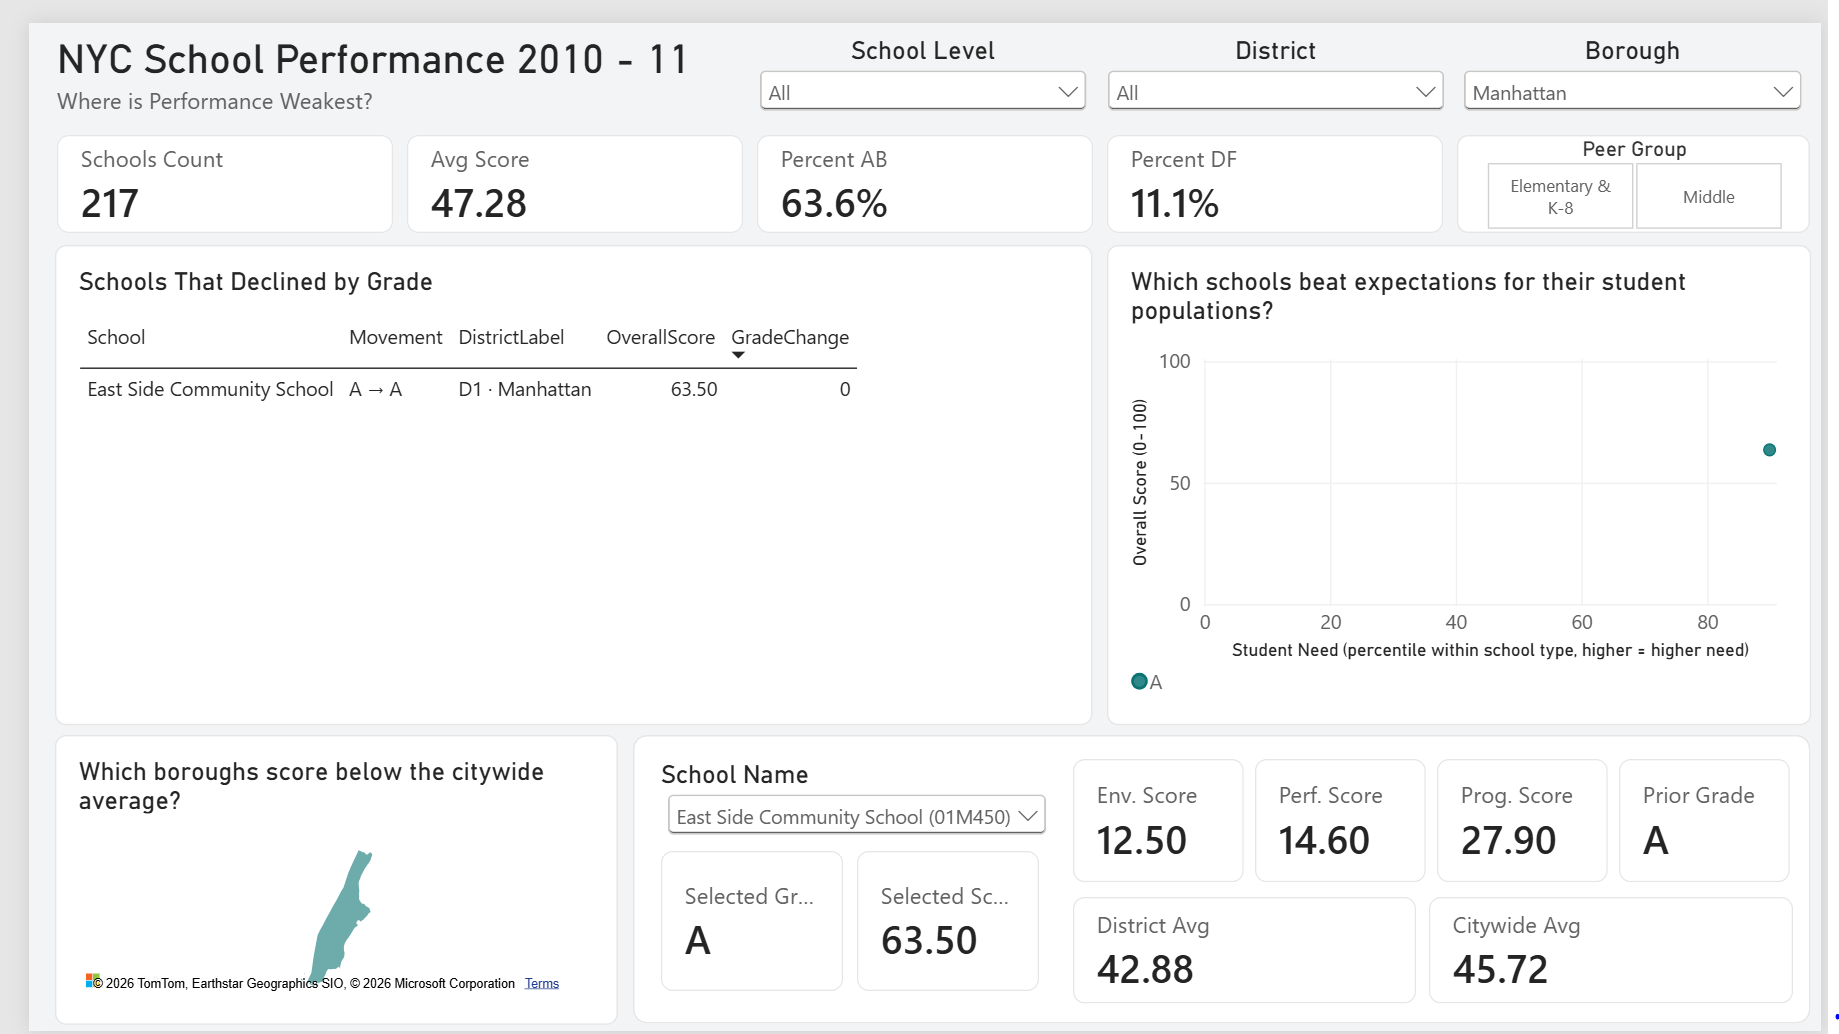

This screenshot's page, from the dashboard's own definition file:
{"tool":"powerbi","page":{"name":"Schools","canvas":[1280,720],"ordinal":0},"visuals":[{"type":"textbox","title":"NYC School Performance 2010 - 11","box":[20,8,477,64],"z":0},{"type":"slicer","title":"School Level","fields":{"Values":["Schools.SchoolLevel"]},"box":[517,8,243,60],"z":1000},{"type":"slicer","title":"District","fields":{"Values":["Schools.DistrictLabel"]},"box":[765,8,250,60],"z":2000},{"type":"cardVisual","fields":{"Data":["Schools.Schools Count"]},"box":[20,80,240,70],"z":3000},{"type":"cardVisual","fields":{"Data":["Schools.Avg Score"]},"box":[270,80,240,70],"z":4000},{"type":"cardVisual","fields":{"Data":["Schools.Percent AB"]},"box":[520,80,240,70],"z":5000},{"type":"cardVisual","title":"Percent DF","fields":{"Data":["Schools.Percent DF"]},"box":[770,80,240,70],"z":6000},{"type":"slicer","title":"Peer Group","fields":{"Values":["Schools.PeerGroup"]},"box":[1020,80,252,70],"z":7000},{"type":"shape","box":[431,509,841,206],"z":9000},{"type":"slicer","title":"School Name","fields":{"Values":["Schools.SchoolLabel"]},"box":[452,525,280,60],"z":11000},{"type":"cardVisual","fields":{"Data":["Schools.Selected Grade"]},"box":[452,592,130,100],"z":12000},{"type":"cardVisual","fields":{"Data":["Schools.Selected Score"]},"box":[592,592,130,100],"z":13000},{"type":"cardVisual","fields":{"Data":["Schools.Sel Env","Schools.Sel Perf","Schools.Sel Prog","Schools.Prior Grade"]},"box":[745,525,515,88],"z":14000},{"type":"cardVisual","fields":{"Data":["Schools.District Avg"]},"box":[745,624,245,76],"z":15000},{"type":"cardVisual","fields":{"Data":["Schools.Citywide Avg"]},"box":[1000,624,260,76],"z":16000},{"type":"slicer","title":"Borough","fields":{"Values":["Schools.Borough"]},"box":[1020,8,251,60],"z":17000},{"type":"tableEx","title":"Schools That Declined by Grade","fields":{"Values":["Schools.School","Schools.Movement","Schools.DistrictLabel","Schools.OverallScore","Schools.GradeChange"]},"box":[19,158,741,343],"z":19000},{"type":"scatterChart","title":"Which schools beat expectations for their student populations?","fields":{"Category":["Schools.SchoolLabel"],"Series":["Schools.OverallGrade"],"X":["Avg(Schools.NeedPercentile)"],"Y":["Avg(Schools.OverallScore)"]},"box":[770,158,503,343],"z":19001},{"type":"filledMap","title":"Which boroughs score below the citywide average?","fields":{"Category":["Schools.CountyName"]},"box":[19,509,402,207],"z":19002}]}

Visuals, with their boxes in screenshot pixels (x1, y1, x2, y2), scaled from the page's 1280x720 canvas onto the 1839x1034 screenshot:
"NYC School Performance 2010 - 11" textbox: crop(29, 11, 714, 103)
"School Level" slicer: crop(743, 11, 1092, 98)
"District" slicer: crop(1099, 11, 1458, 98)
cardVisual - Schools.Schools Count: crop(29, 115, 374, 215)
cardVisual - Schools.Avg Score: crop(388, 115, 733, 215)
cardVisual - Schools.Percent AB: crop(747, 115, 1092, 215)
"Percent DF" cardVisual: crop(1106, 115, 1451, 215)
"Peer Group" slicer: crop(1465, 115, 1828, 215)
shape: crop(619, 731, 1828, 1027)
"School Name" slicer: crop(649, 754, 1052, 840)
cardVisual - Schools.Selected Grade: crop(649, 850, 836, 994)
cardVisual - Schools.Selected Score: crop(851, 850, 1037, 994)
cardVisual - Schools.Sel Env x Schools.Sel Perf: crop(1070, 754, 1810, 880)
cardVisual - Schools.District Avg: crop(1070, 896, 1422, 1005)
cardVisual - Schools.Citywide Avg: crop(1437, 896, 1810, 1005)
"Borough" slicer: crop(1465, 11, 1826, 98)
"Schools That Declined by Grade" tableEx: crop(27, 227, 1092, 719)
"Which schools beat expectations for their student populations?" scatterChart: crop(1106, 227, 1829, 719)
"Which boroughs score below the citywide average?" filledMap: crop(27, 731, 605, 1028)
